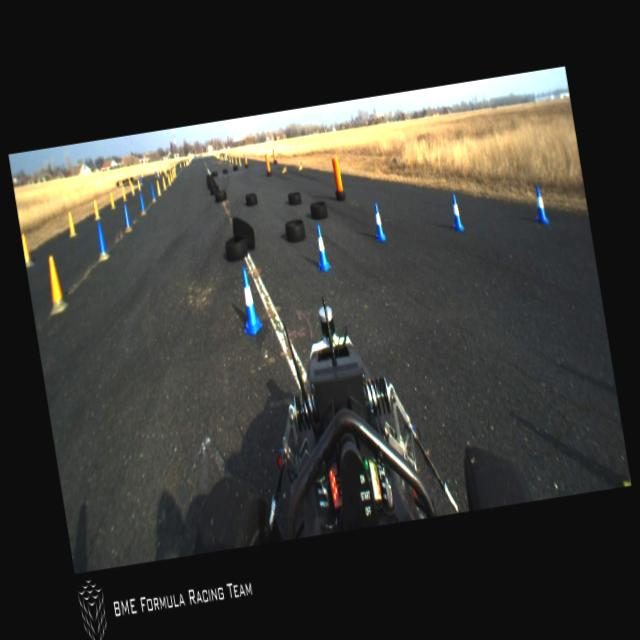blue_cone: (235, 270, 264, 338), (312, 223, 332, 273), (531, 184, 550, 227), (448, 192, 466, 234), (371, 202, 386, 242)
